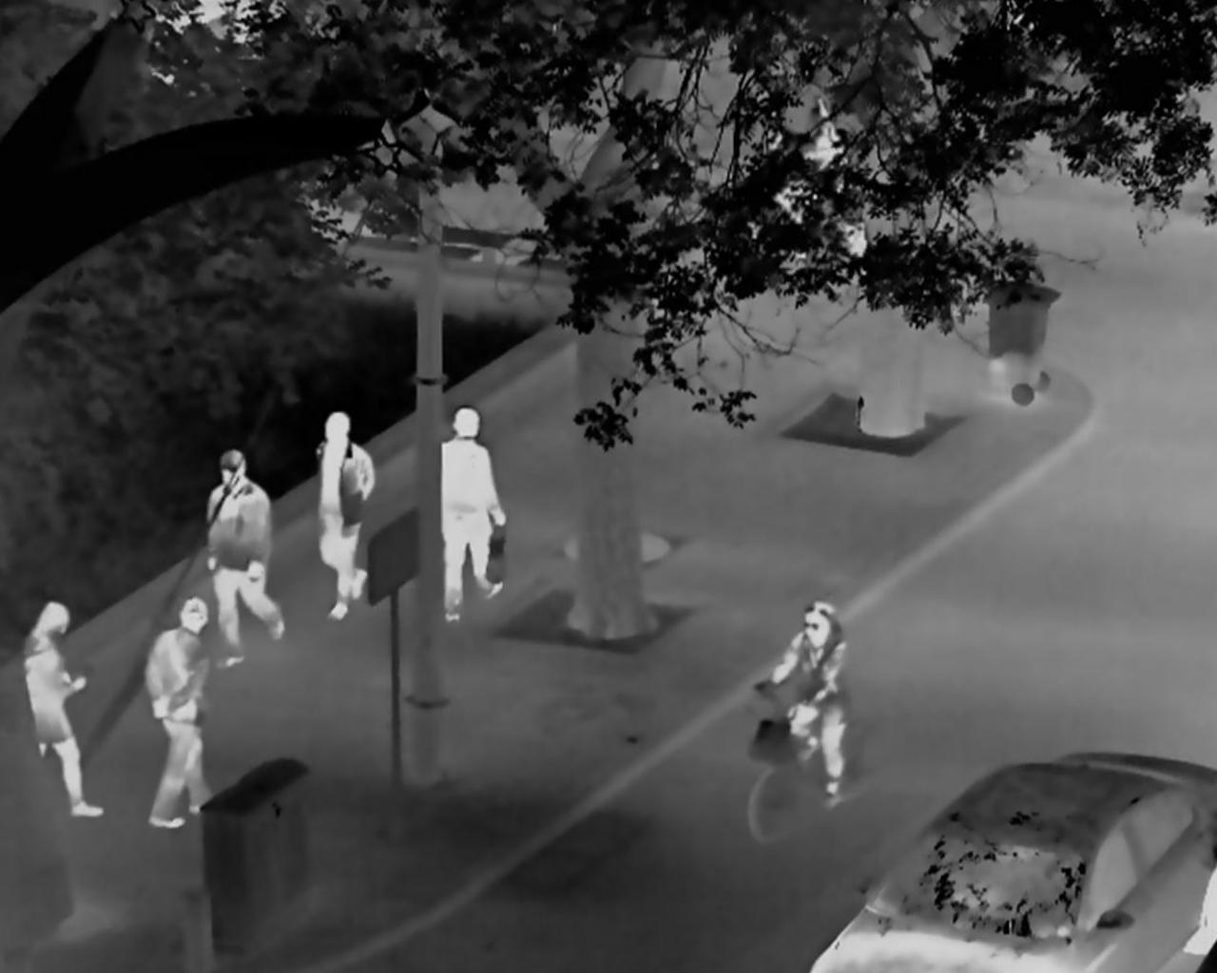person: (19, 601, 106, 817), (203, 448, 285, 668), (144, 597, 213, 828), (771, 601, 847, 795), (440, 406, 507, 622), (316, 410, 377, 621)
